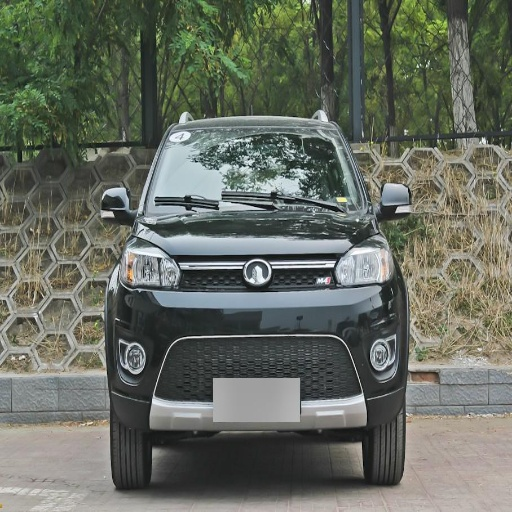front_bumper: (113, 254, 405, 430)
front_right_light: (120, 237, 180, 288)
hood: (138, 203, 378, 257)
